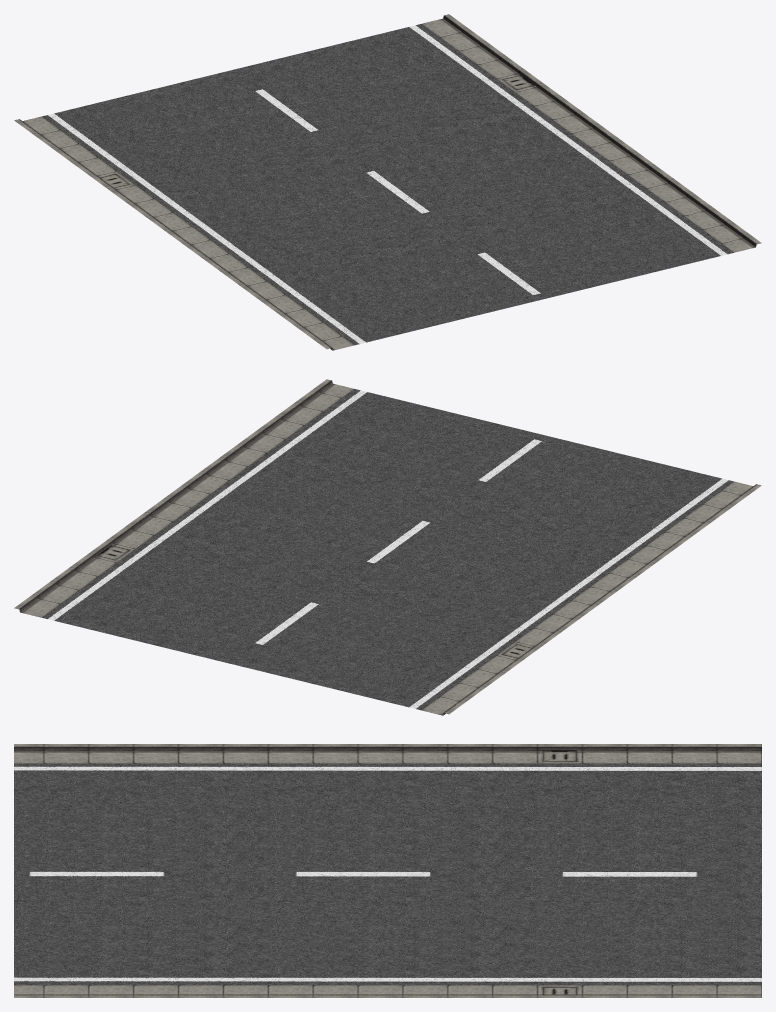
File: 1syasen10m.FBX
3 renders of one model, top to bottom at view 1: azimuth 30°, elevation 25°; view 2: azimuth 150°, elevation 25°; view 3: azimuth 270°, elevation 25°, orthographic. The views are drawn at different scales.
Visible parts, largest first — view 1: Street1Lane30m; view 2: Street1Lane30m; view 3: Street1Lane30m.
Boxes of the visible parts, <box> form: Street1Lane30m: <box>14,14,761,350</box>; Street1Lane30m: <box>14,379,761,715</box>; Street1Lane30m: <box>14,744,761,997</box>.
Size of the model in its own units: 316 by 1.97 by 394.
